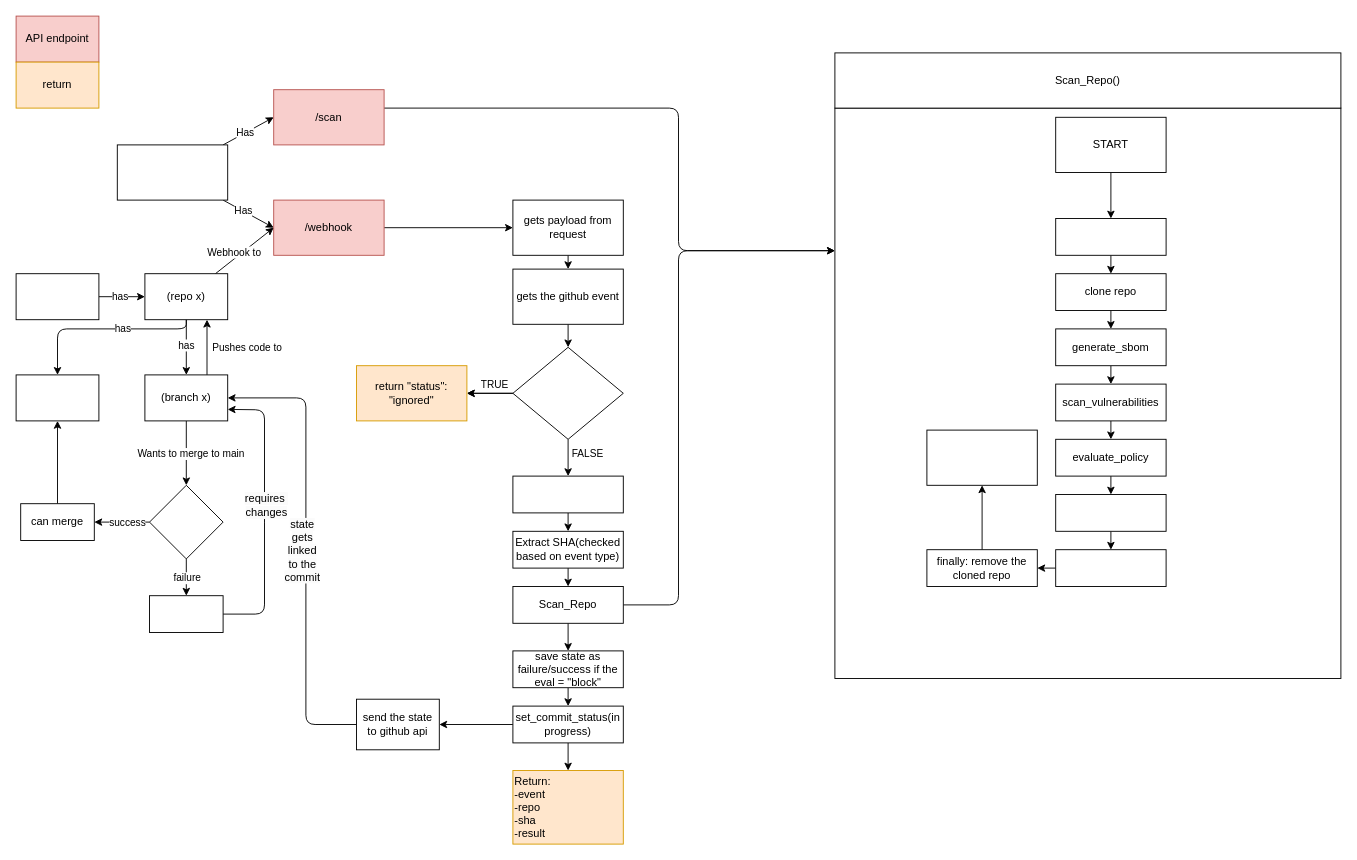
Some shapes in this 1357 by 860 pixel diagram are drawn without their labels. Each missing label, with the centre of its shape:
"(branch main)" belongs at (57,397).
"can't merge" belongs at (186,613).
"END" belongs at (981,457).
"get the duration from current - start time" belongs at (1110,512).
"get the url and repo name" belongs at (567,494).
"Github" belongs at (57,296).
"If event !== push / pull_request" belongs at (567,392).
"if state" belongs at (186,521).
"keep starting time" belongs at (1110,236).
"return evaluation as result and duration" belongs at (1110,567).
"Scanner_API" belongs at (172,172).
